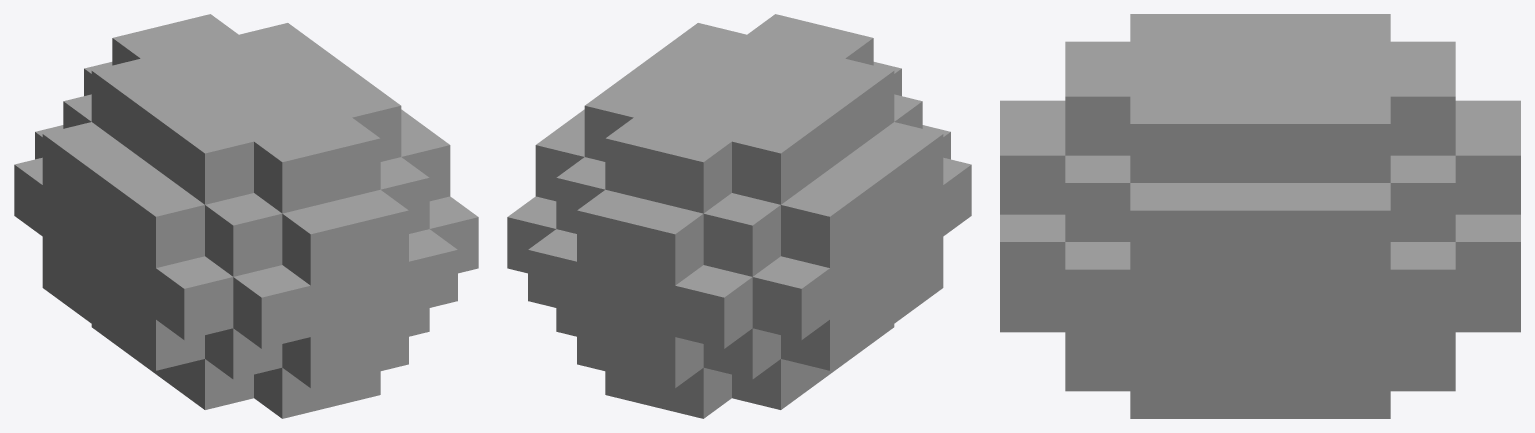
File: stone.obj
3 views of the same model, side by side, from view 1: azimuth 30°, elevation 25°; view 2: azimuth 150°, elevation 25°; view 3: azimuth 270°, elevation 25° (orthographic). The views are drawn at different scales.
Bounding box in the file's own units: 0.6 × 0.5 × 0.8.
Materials: 1 (1 with a texture image).
